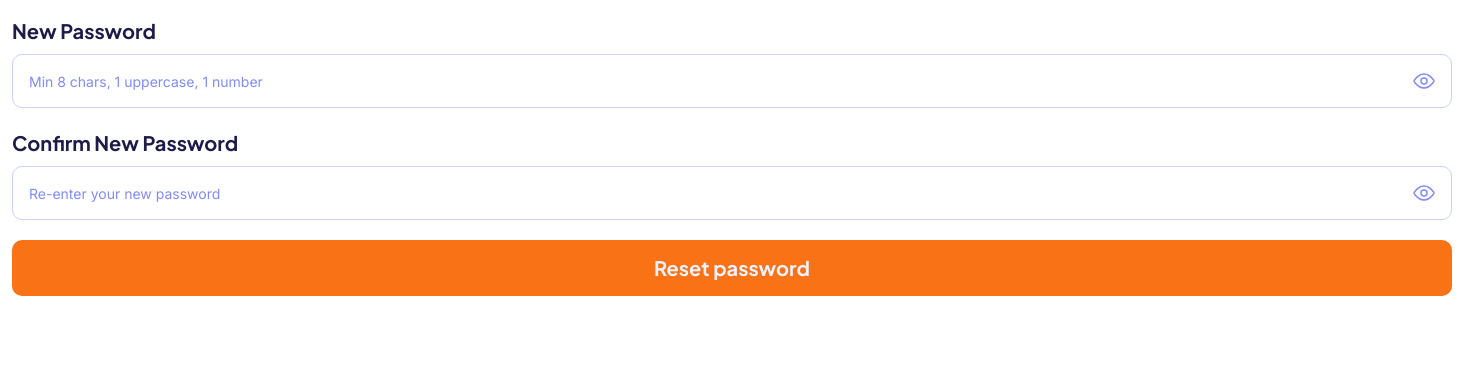
Scenario: ResetPasswordForm — with a token › confirms success and redirects to log in after the delay
Type "NewPassw0rd" into the password field labelled "New Password". click: [732, 81]
box: [12, 54, 1452, 108]
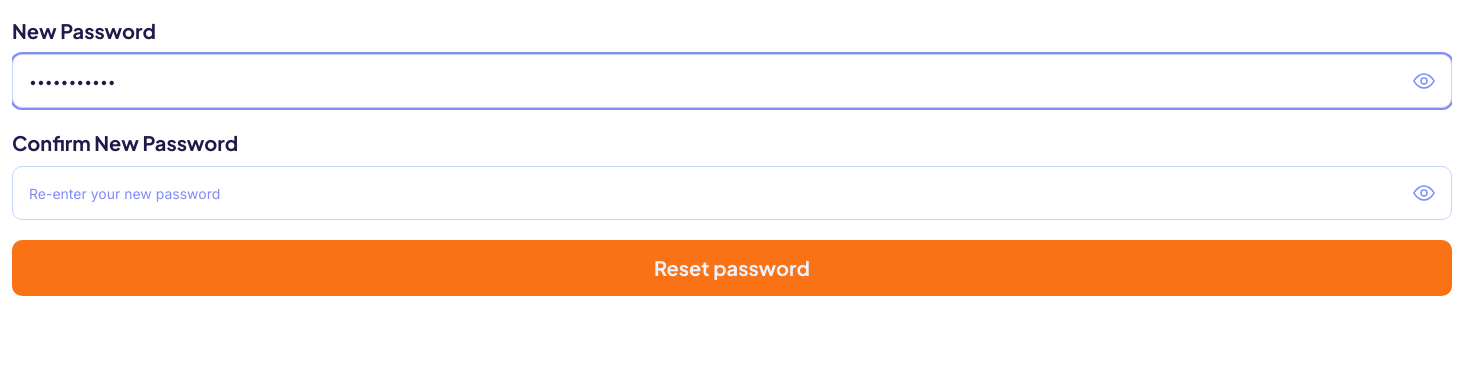
Type "NewPassw0rd" into the password field labelled "Confirm New Password". click: [732, 193]
box: [12, 166, 1452, 220]
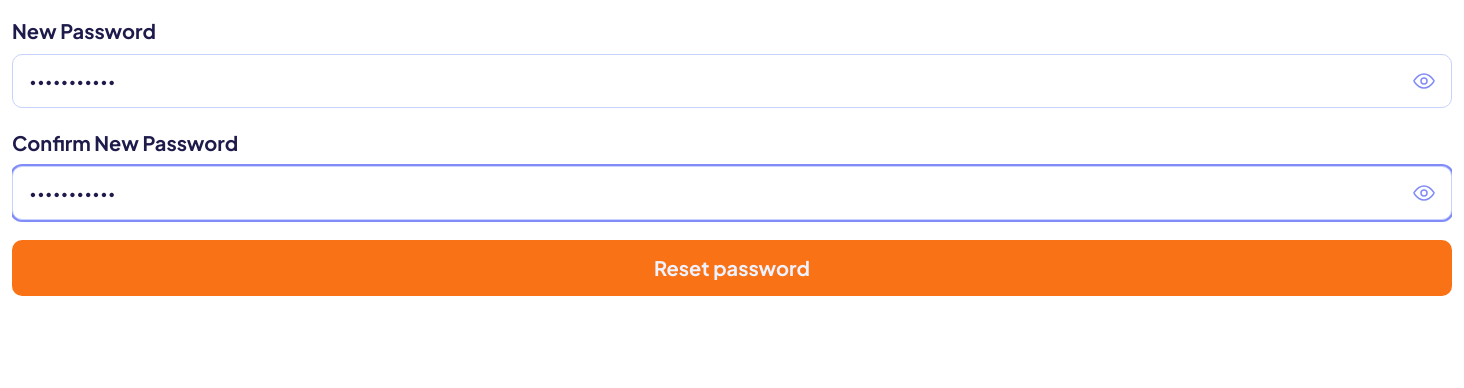
Click the button "Reset password". click: [732, 268]
box: [12, 240, 1452, 296]
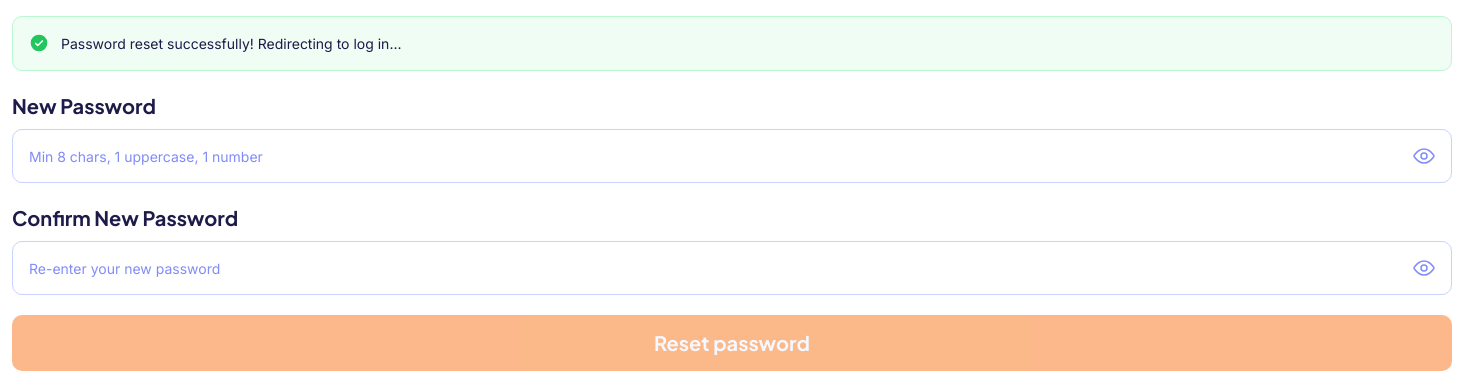
Result: the message shows "Password reset successfully" at [61, 35, 402, 52]
